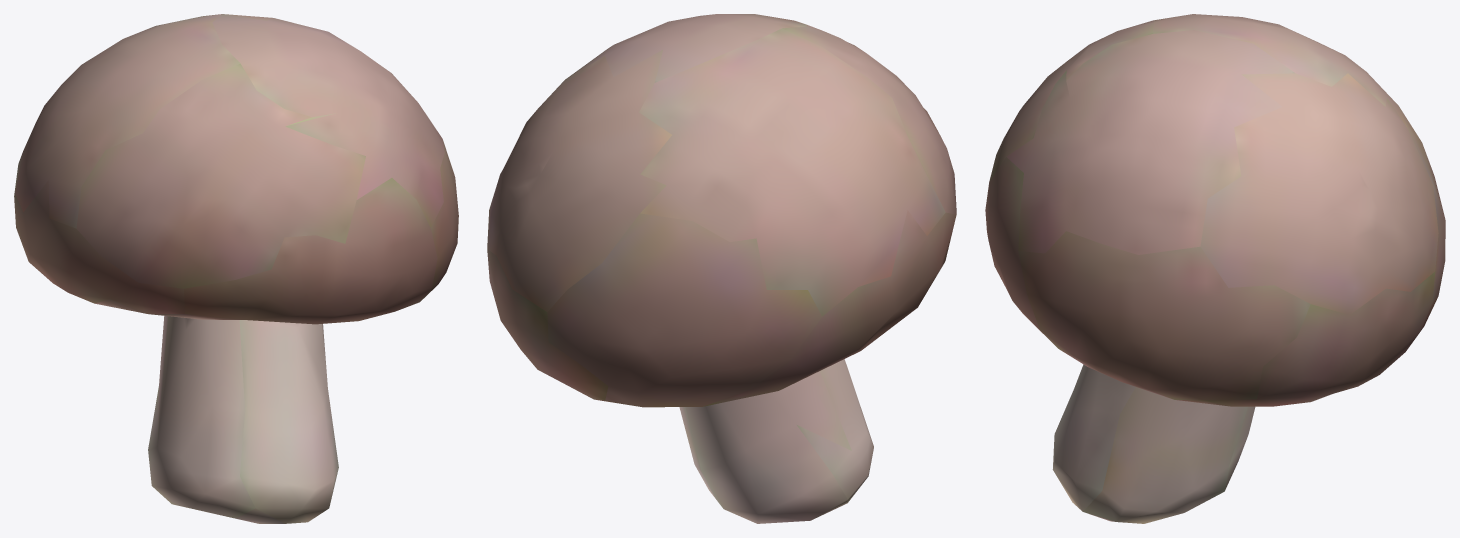
Rendered from cogumelo.glb.
3 renders of one model, left to right at view 1: azimuth 30°, elevation 25°; view 2: azimuth 150°, elevation 25°; view 3: azimuth 270°, elevation 25°, orthographic. The views are drawn at different scales.
Parts seen in each view (by area): view 1: cogumelo; view 2: cogumelo; view 3: cogumelo.
Part boxes in pixels (left/top/right/bottom): cogumelo: left=14, top=14, right=458, bottom=523; cogumelo: left=487, top=14, right=956, bottom=523; cogumelo: left=985, top=14, right=1445, bottom=523.
Size of the model in its own units: 0.1102 by 0.1249 by 0.1113.
1 material, 1 textured.
